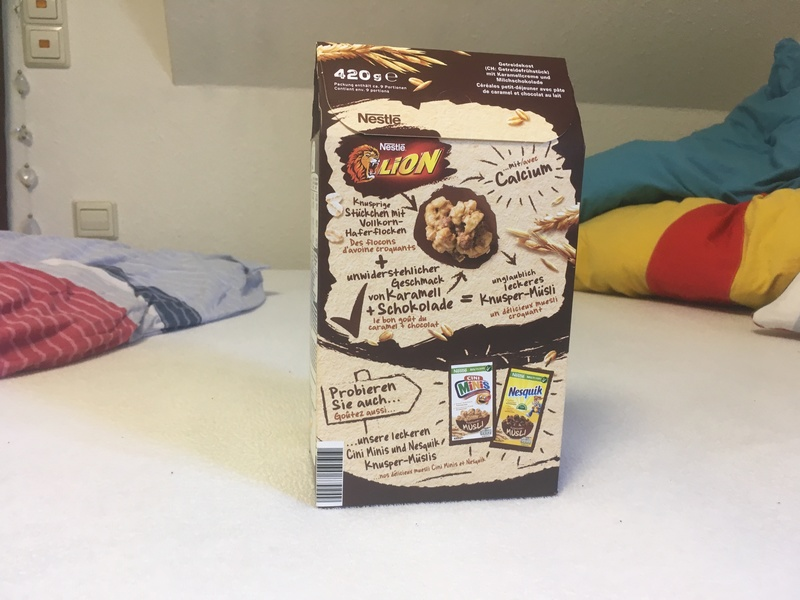cereals: (312, 42, 585, 510)
